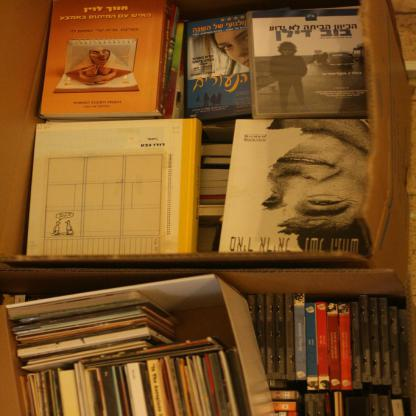book: (25, 0, 370, 259), (8, 292, 413, 416), (40, 0, 170, 119)
